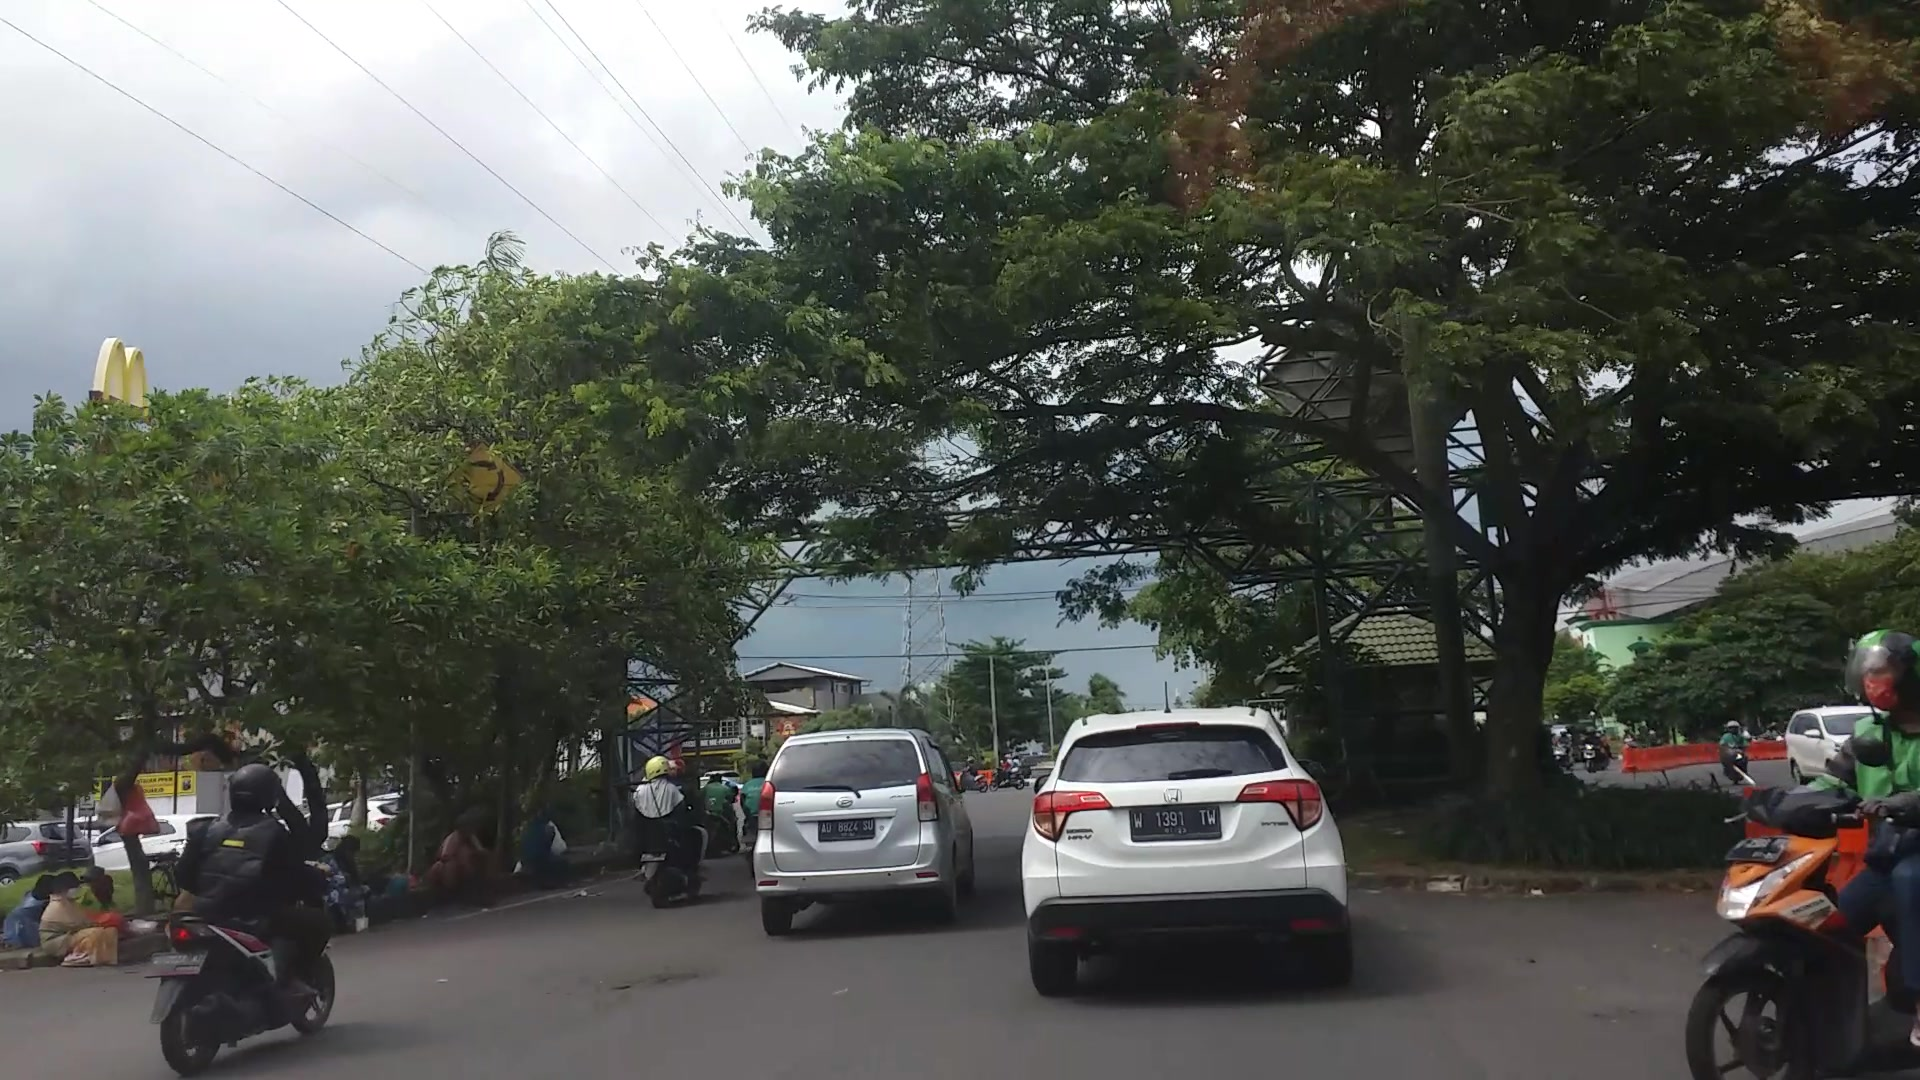plate_positive: (1130, 804, 1220, 840), (818, 820, 876, 841)
